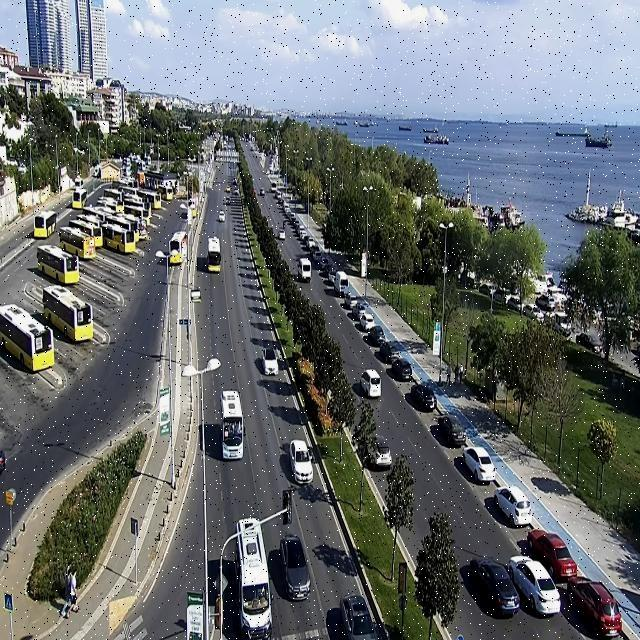Bus: (0, 303, 54, 374), (41, 284, 94, 344), (218, 390, 244, 460), (36, 244, 80, 284), (58, 227, 96, 260), (105, 213, 141, 244), (102, 223, 136, 254), (68, 218, 103, 248), (122, 203, 151, 227), (168, 231, 188, 265), (34, 210, 56, 239), (207, 236, 222, 272), (138, 190, 162, 209), (70, 189, 88, 209), (82, 207, 108, 220), (76, 214, 104, 226), (103, 188, 125, 202), (94, 200, 117, 212), (159, 184, 174, 200)
Car: (567, 572, 625, 640), (507, 554, 563, 616), (467, 557, 518, 618), (527, 527, 579, 584), (280, 532, 312, 603), (340, 593, 379, 640), (493, 484, 533, 527), (462, 445, 497, 483), (288, 439, 314, 486), (436, 414, 466, 447), (367, 434, 392, 468), (410, 383, 437, 412), (261, 345, 280, 378), (393, 357, 414, 381), (379, 341, 400, 362), (524, 302, 544, 324), (366, 324, 386, 344), (535, 293, 556, 311), (359, 314, 376, 331), (343, 291, 358, 308), (351, 303, 367, 318), (480, 284, 496, 294), (218, 211, 226, 223), (278, 229, 286, 240)
Van: (234, 517, 277, 640), (359, 368, 383, 400), (335, 270, 350, 296), (298, 256, 311, 282)
